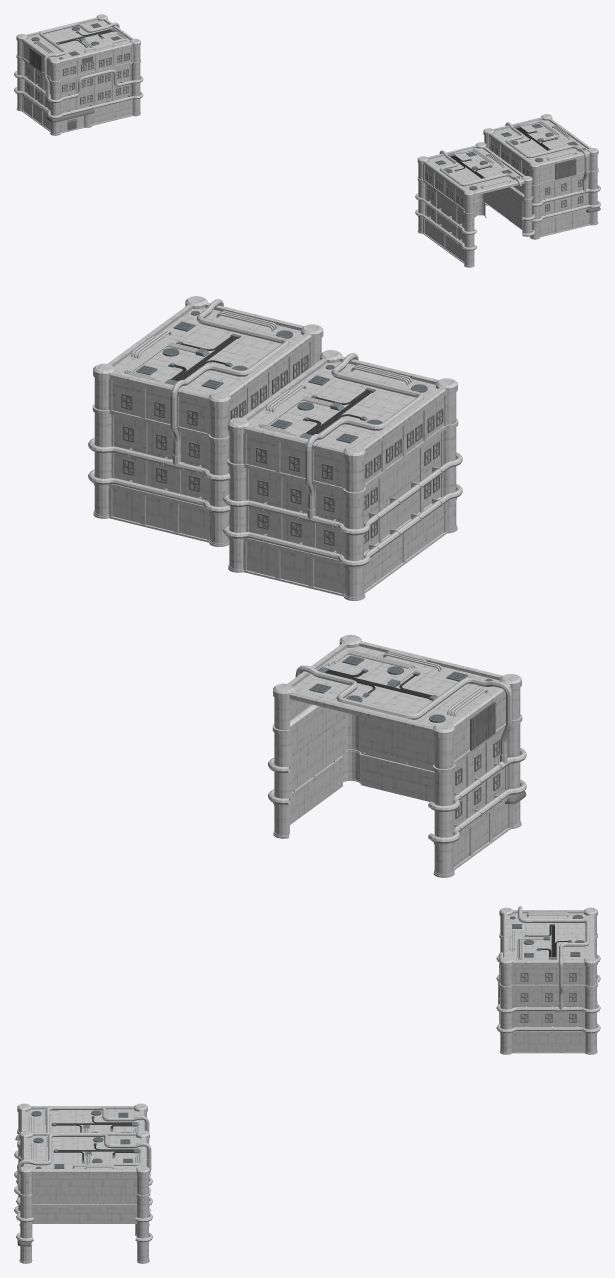
The model's file is konohavill_CommonBuilding_F_2.fbx.
The picture shows the model from 3 angles, top to bottom: view 1: azimuth 30°, elevation 25°; view 2: azimuth 150°, elevation 25°; view 3: azimuth 270°, elevation 25°; orthographic projection. The views are drawn at different scales.
Visible parts, largest first — view 1: MERGED_SM_ENV_KNVLLG_CommonBuilding_F_2.mo; view 2: MERGED_SM_ENV_KNVLLG_CommonBuilding_F_2.mo; view 3: MERGED_SM_ENV_KNVLLG_CommonBuilding_F_2.mo.
Part boxes in pixels (x1,y1,x2,y2): MERGED_SM_ENV_KNVLLG_CommonBuilding_F_2.mo: (14, 14, 600, 267); MERGED_SM_ENV_KNVLLG_CommonBuilding_F_2.mo: (88, 296, 526, 877); MERGED_SM_ENV_KNVLLG_CommonBuilding_F_2.mo: (14, 906, 600, 1263).
Size of the model in its own units: 13033 by 4203 by 14522.
